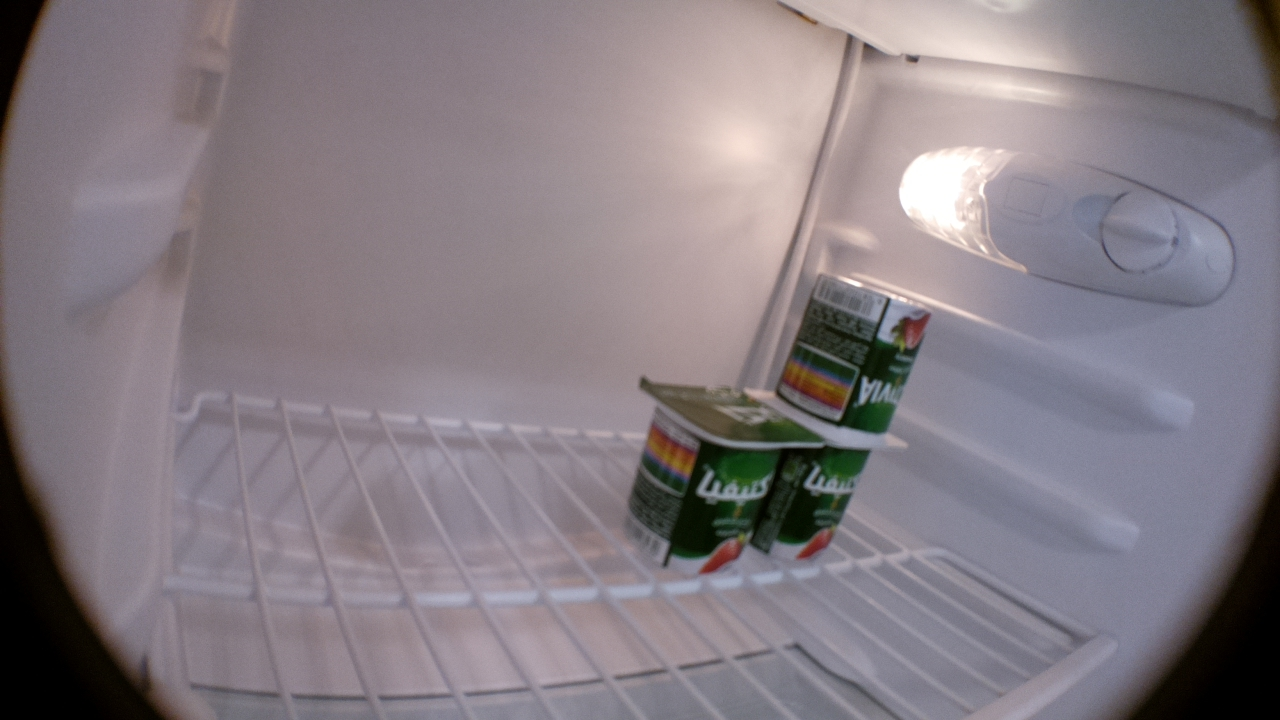yoghurt: (621, 377, 831, 574), (745, 267, 935, 446), (753, 431, 906, 565)
